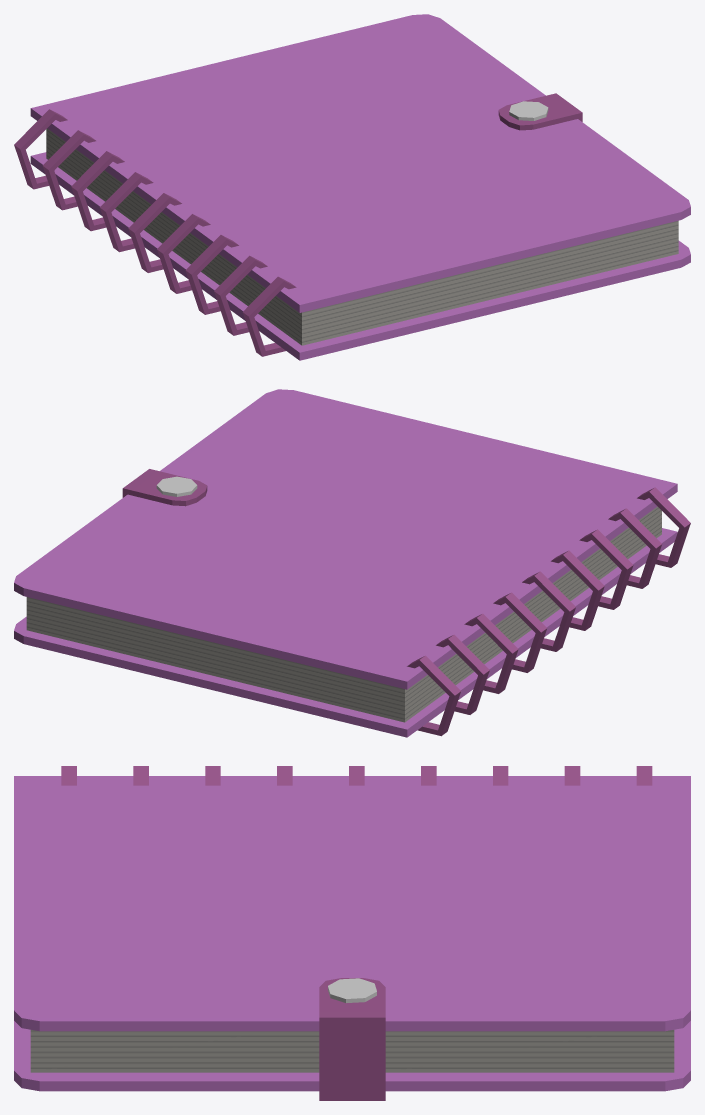
File: Int_OfficeNotebook01_1.fbx
3 views of the same model, one above another, from view 1: azimuth 30°, elevation 25°; view 2: azimuth 150°, elevation 25°; view 3: azimuth 270°, elevation 25° (orthographic). The views are drawn at different scales.
Parts seen in each view (by area): view 1: Int_OfficeNotebook01_1; view 2: Int_OfficeNotebook01_1; view 3: Int_OfficeNotebook01_1.
Boxes of the visible parts, x1,y1,x2,y2 form: Int_OfficeNotebook01_1: [14, 14, 690, 360]; Int_OfficeNotebook01_1: [14, 389, 690, 737]; Int_OfficeNotebook01_1: [14, 766, 690, 1100].
Size of what is drawn, in the model's own units: 27.21 by 29.05 by 4.2.
